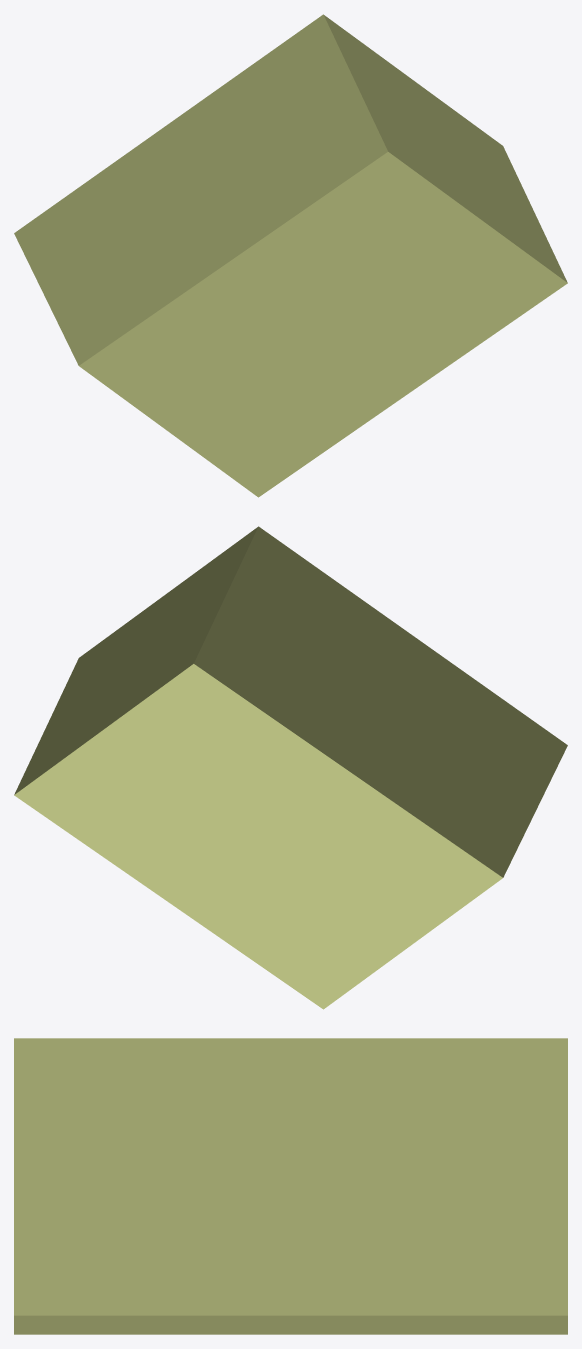
3 views of the same model, one above another, from view 1: azimuth 30°, elevation 25°; view 2: azimuth 150°, elevation 25°; view 3: azimuth 270°, elevation 25° (orthographic). The views are drawn at different scales.
Parts seen in each view (by area): view 1: 0_1_0_0_0_1_2_1_3_2; view 2: 0_1_0_0_0_1_2_1_3_2; view 3: 0_1_0_0_0_1_2_1_3_2.
Part boxes in pixels (box(x1,y1,x2,y2)): 0_1_0_0_0_1_2_1_3_2: box(14, 14, 567, 497); 0_1_0_0_0_1_2_1_3_2: box(14, 526, 567, 1009); 0_1_0_0_0_1_2_1_3_2: box(14, 1038, 567, 1334).
Size of the model in its own units: 10.82 by 8.06 by 9.
